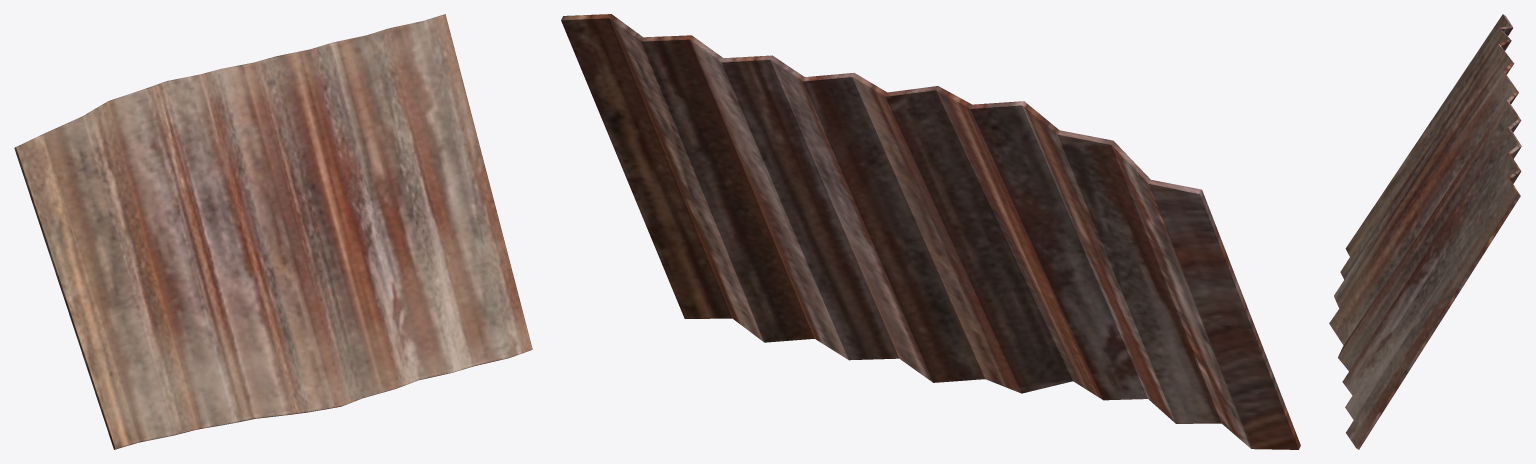
3 renders of one model, left to right at view 1: azimuth 30°, elevation 25°; view 2: azimuth 150°, elevation 25°; view 3: azimuth 270°, elevation 25°, orthographic. The views are drawn at different scales.
Visible parts, largest first — view 1: Object_80; view 2: Object_80; view 3: Object_80.
Boxes of the visible parts, x1,y1,x2,y2 form: Object_80: [14, 14, 532, 449]; Object_80: [561, 14, 1300, 449]; Object_80: [1329, 14, 1521, 449].
Bounding box in the file's own units: 1.43 × 0.8946 × 0.5832.
Materials: 1 (1 with a texture image).
